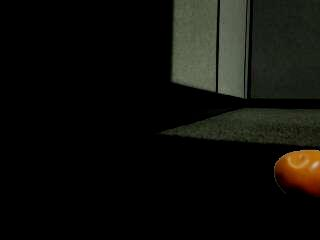Potato: (271, 148, 320, 204)
